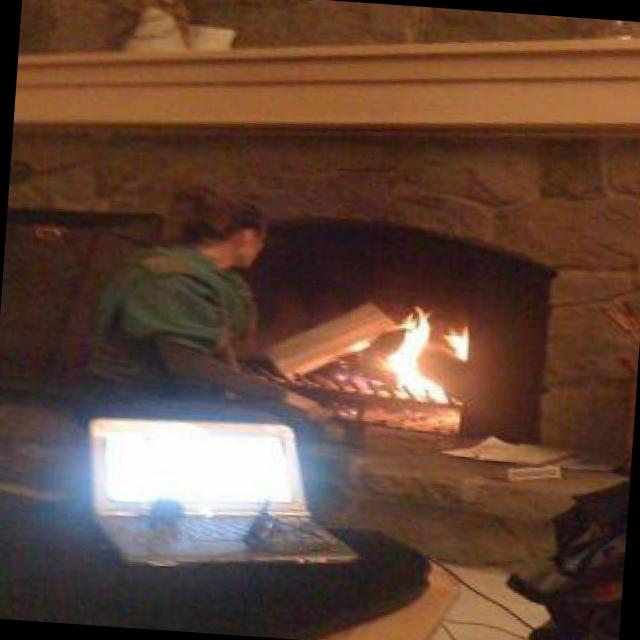fire: (356, 296, 484, 410)
